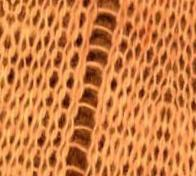slub: (65, 0, 124, 176)
